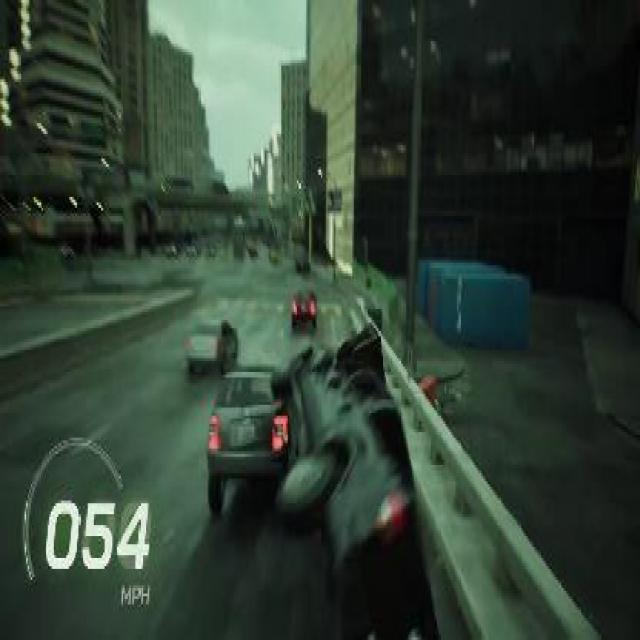accident: (200, 326, 431, 638)
